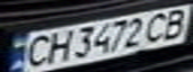2: (124, 15, 151, 48)
3: (72, 24, 96, 60)
4: (90, 20, 115, 55)
7: (109, 17, 133, 52)
B: (157, 6, 193, 40)
C: (18, 33, 57, 69), (139, 10, 175, 44)
H: (42, 28, 75, 64)
